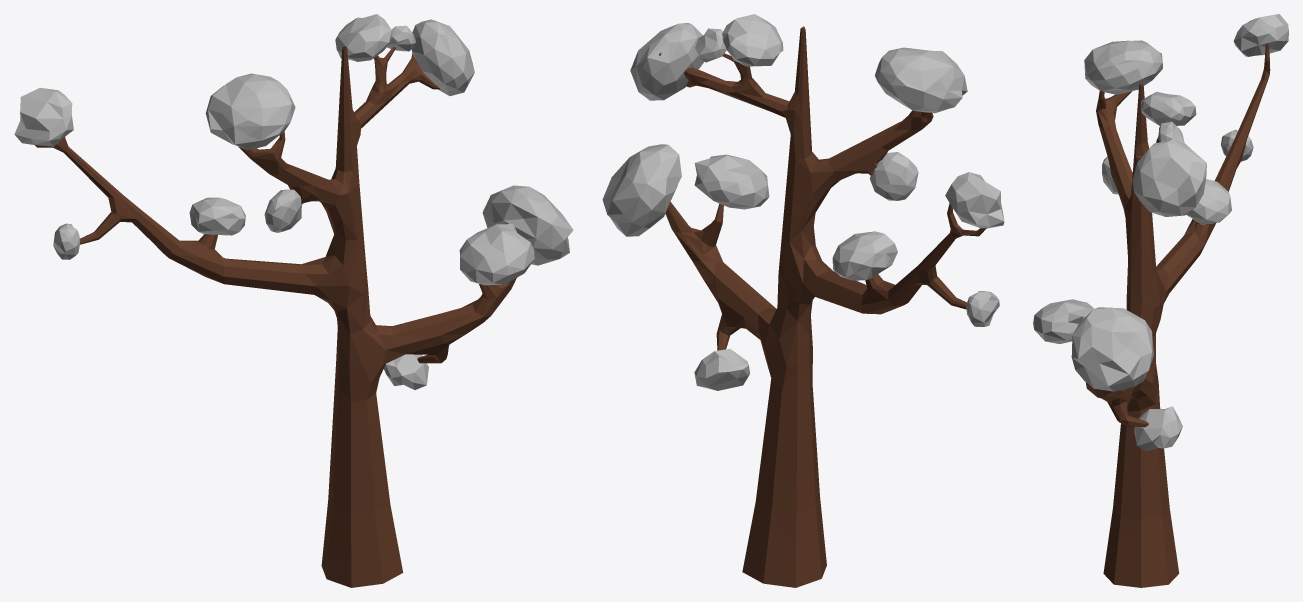
Rendered from 2Stad.fbx.
The picture shows the model from 3 angles, left to right: view 1: azimuth 30°, elevation 25°; view 2: azimuth 150°, elevation 25°; view 3: azimuth 270°, elevation 25°; orthographic projection. The views are drawn at different scales.
Visible parts, largest first — view 1: Plane.004; view 2: Plane.004; view 3: Plane.004.
Part boxes in pixels (<box>): Plane.004: <box>14,14,573,587</box>; Plane.004: <box>602,14,1004,587</box>; Plane.004: <box>1033,14,1288,587</box>.
Size of the model in its own units: 152 by 167 by 78.79.
